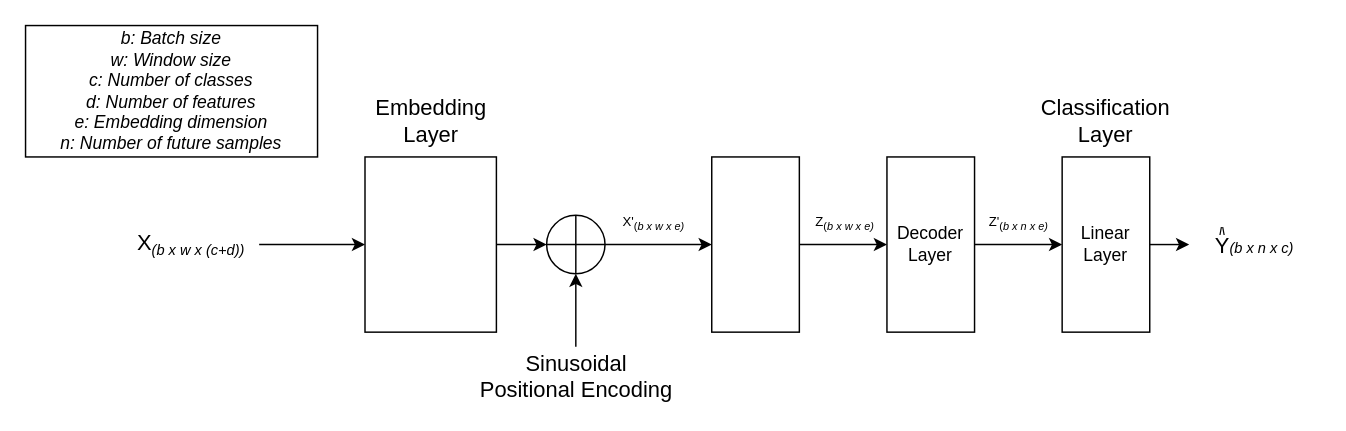
The diagram is 1346 pixels wide and 431 high, and some of its shapes have lost their labels. The box of each missing label's shape, as (x1, y1, x2, y2) in pixels:
Encoder Layer: (710, 155, 799, 332)
Linear Layer + Layer Normalization + Dropout: (364, 155, 496, 332)
